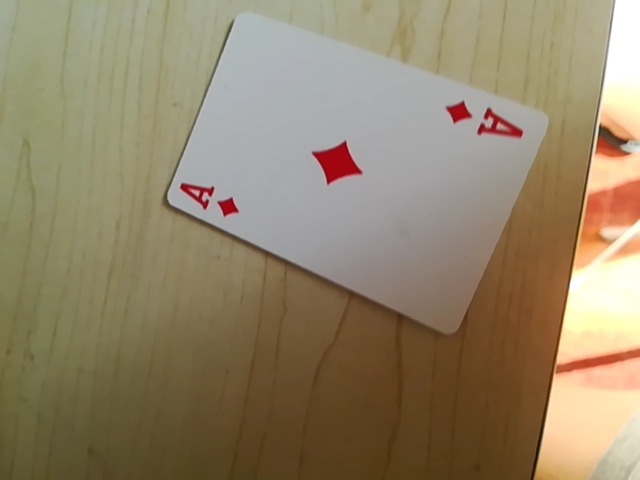fk a: (440, 96, 526, 145), (171, 177, 245, 220)
